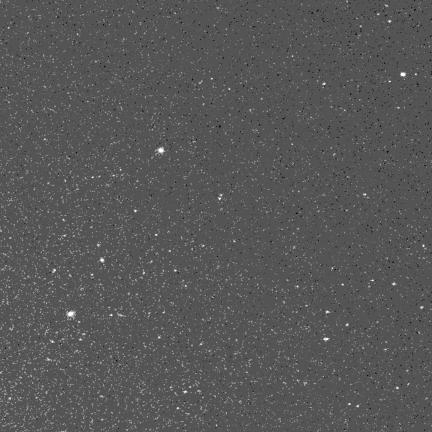blob: (400, 72, 406, 77), (100, 258, 104, 262)
